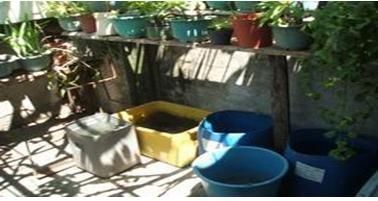bowl: (191, 145, 290, 201), (196, 109, 272, 150)
box: (110, 99, 212, 167), (65, 111, 141, 179)
